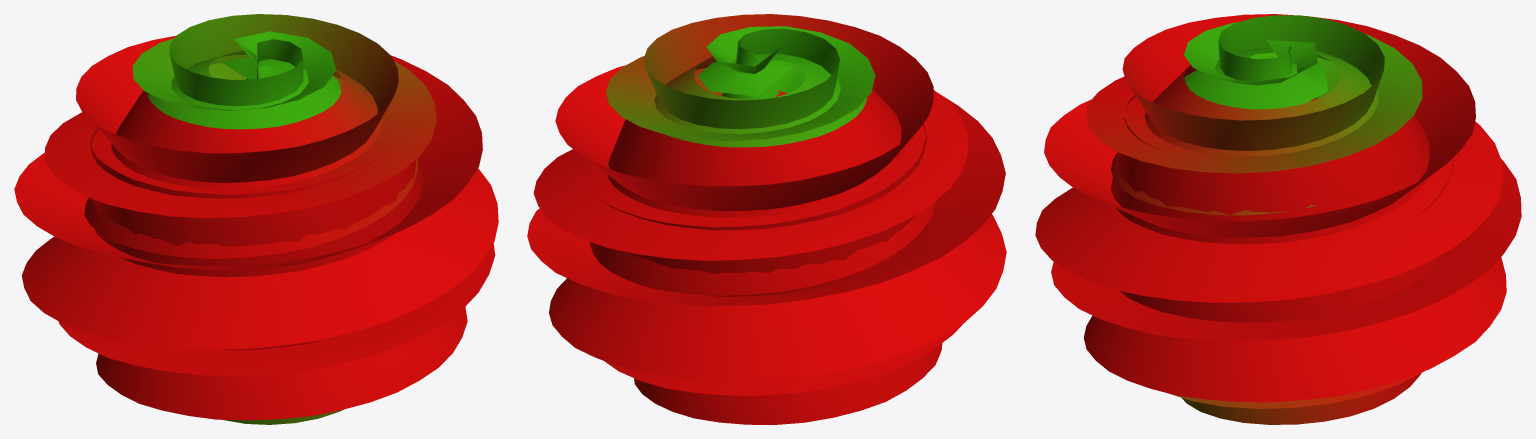
Rendered from VFXCurveMesh06Spiral.fbx.
The picture shows the model from 3 angles, left to right: view 1: azimuth 30°, elevation 25°; view 2: azimuth 150°, elevation 25°; view 3: azimuth 270°, elevation 25°; orthographic projection.
Visible parts, largest first — view 1: VFXCurve02; view 2: VFXCurve02; view 3: VFXCurve02.
Part boxes in pixels (bbox=[...]): VFXCurve02: bbox=[14, 14, 498, 424]; VFXCurve02: bbox=[527, 14, 1006, 424]; VFXCurve02: bbox=[1035, 14, 1521, 424].
Size of the model in its own units: 294 by 234 by 297.
